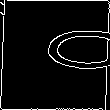O_W: (3, 33, 107, 77)
